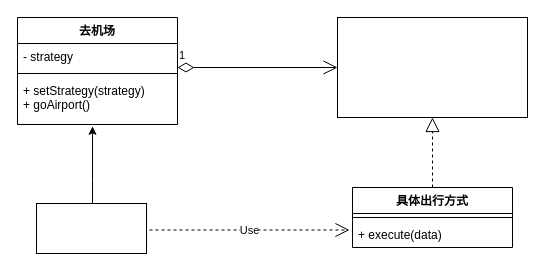
Image size: 545x271. Some labels were removed from this diagram. The shapes that lost their labels are listed below. From the top down, each one's centre as x and y in pixels, then its label:
(432,67): <<Interface>> 出行策略Strategry + execute(data)
(91,228): Client
